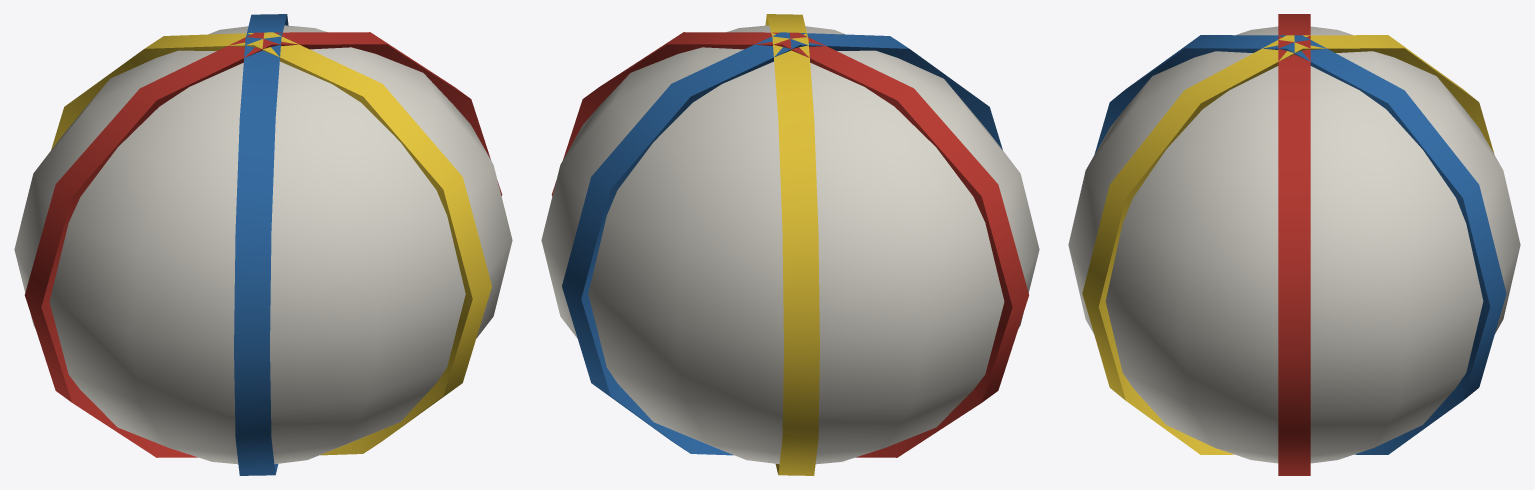
File: 144_serviette_ballon.fbx
The picture shows the model from 3 angles, left to right: view 1: azimuth 30°, elevation 25°; view 2: azimuth 150°, elevation 25°; view 3: azimuth 270°, elevation 25°; orthographic projection.
Parts seen in each view (by area): view 1: Ballon; view 2: Ballon; view 3: Ballon.
Part boxes in pixels (x1=…): Ballon: x1=14, y1=14, x2=512, y2=475; Ballon: x1=541, y1=14, x2=1039, y2=475; Ballon: x1=1068, y1=14, x2=1520, y2=475.
Size of what is drawn, in the model's own units: 0.1964 by 0.168 by 0.1697.
1 material, 1 textured.
